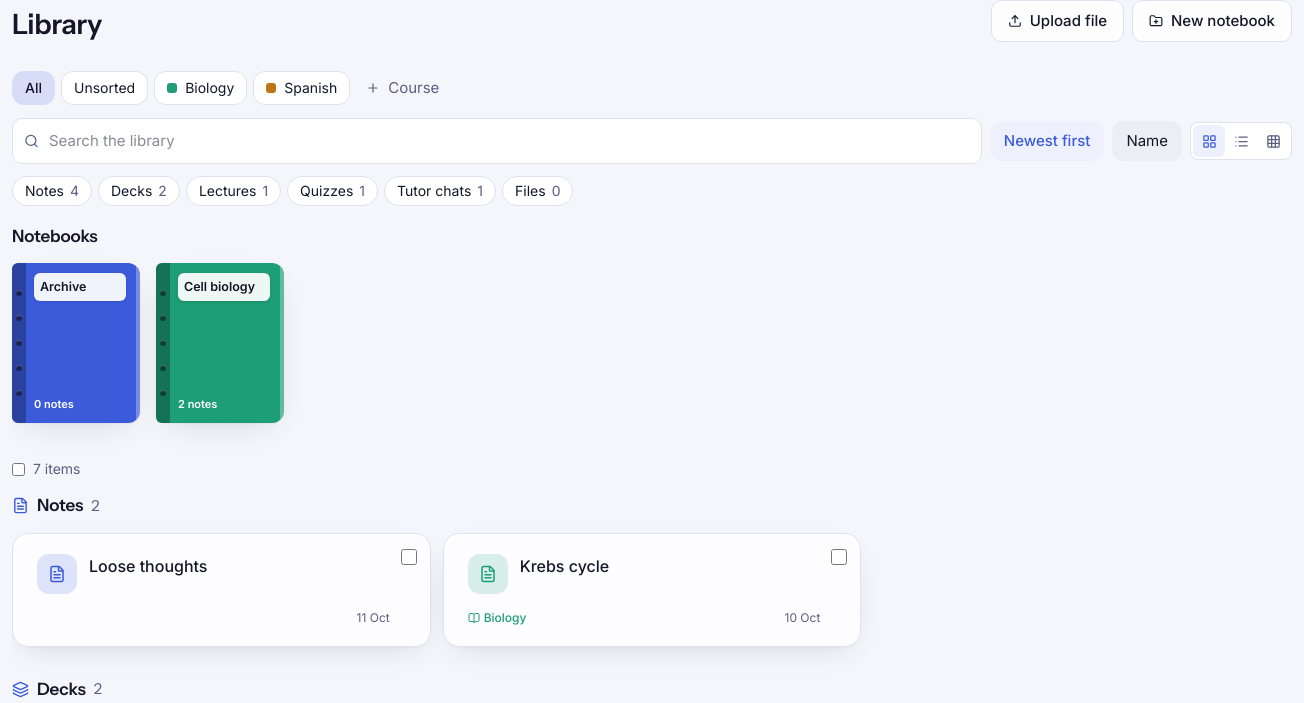
Scenario: Library › notebooks are folders › offers Move to notebook only when every ticked item is a note
The image size is (1304, 703).
Click the checkbox named "Loose thoughts" at (409, 556), box [401,548,417,564]
(page scrolled)
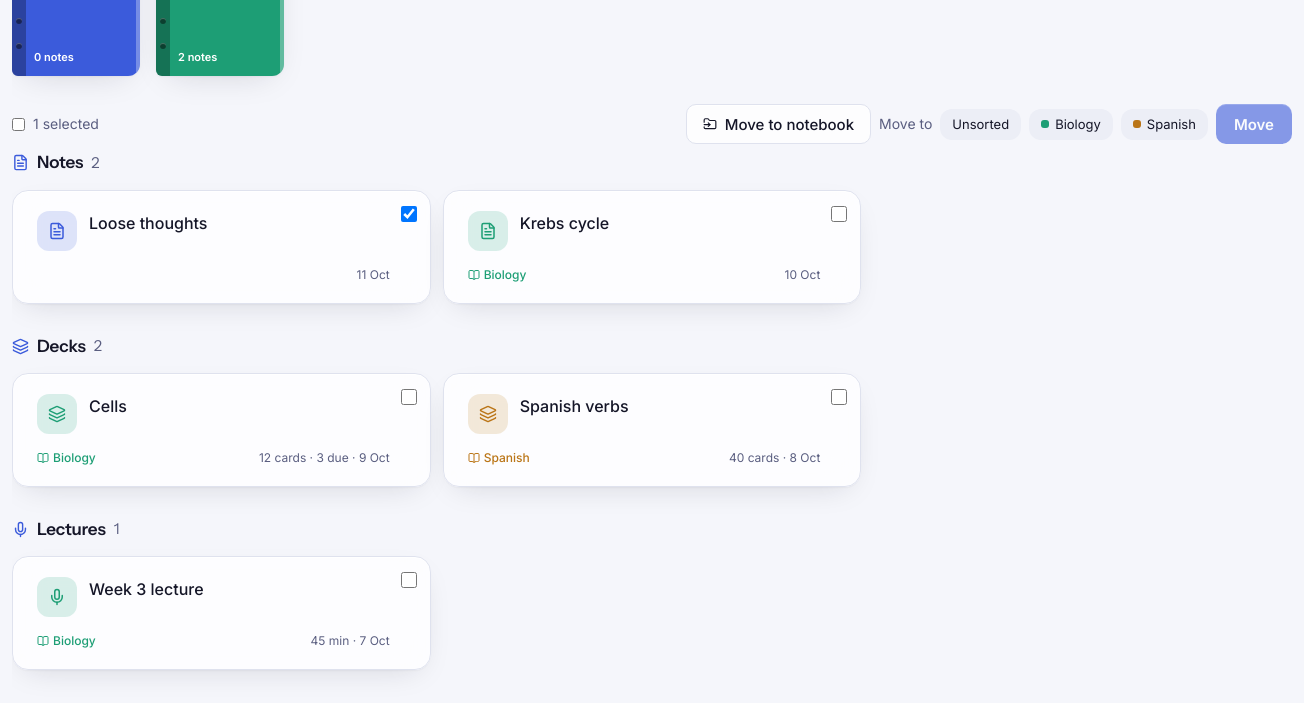
Now the button "Move to notebook" is shown, box [686,104,871,144]
Click the checkbox named "Cells" at (409, 397), box [401,389,417,405]
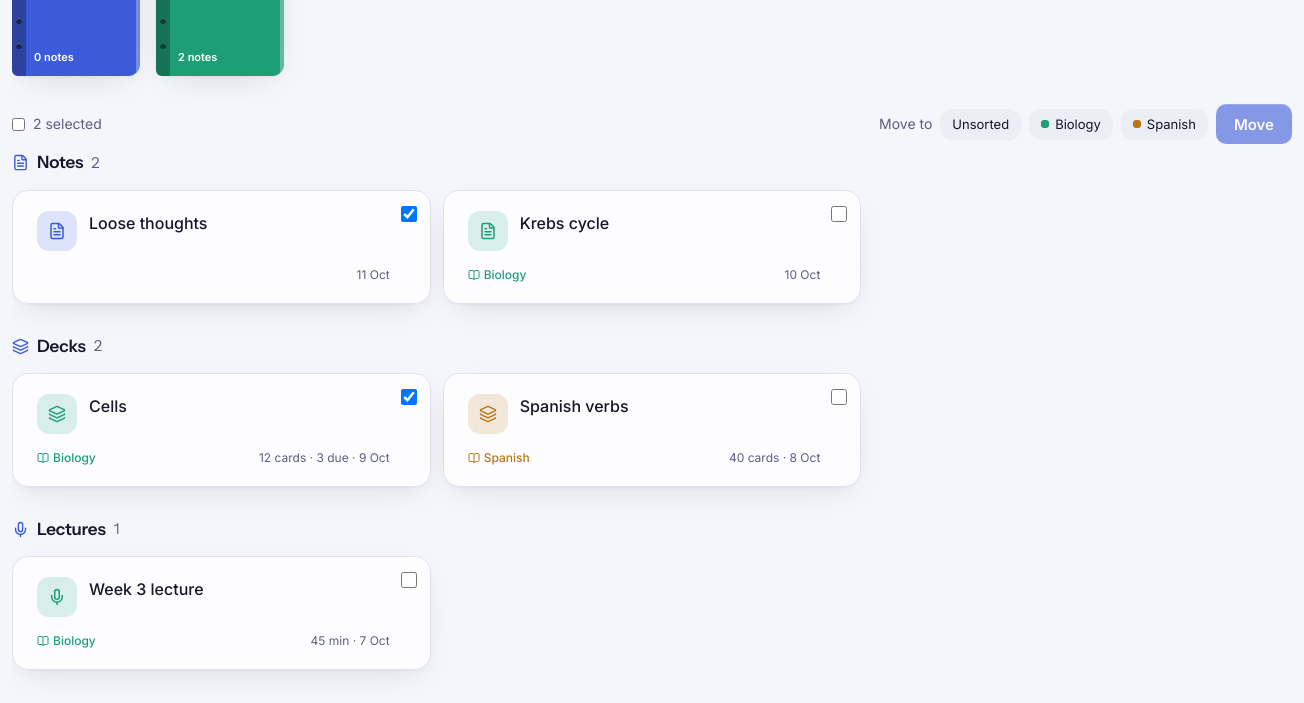
Now the button "Move to notebook" is gone
